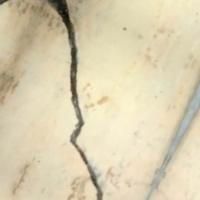crack: (35, 2, 112, 199)
